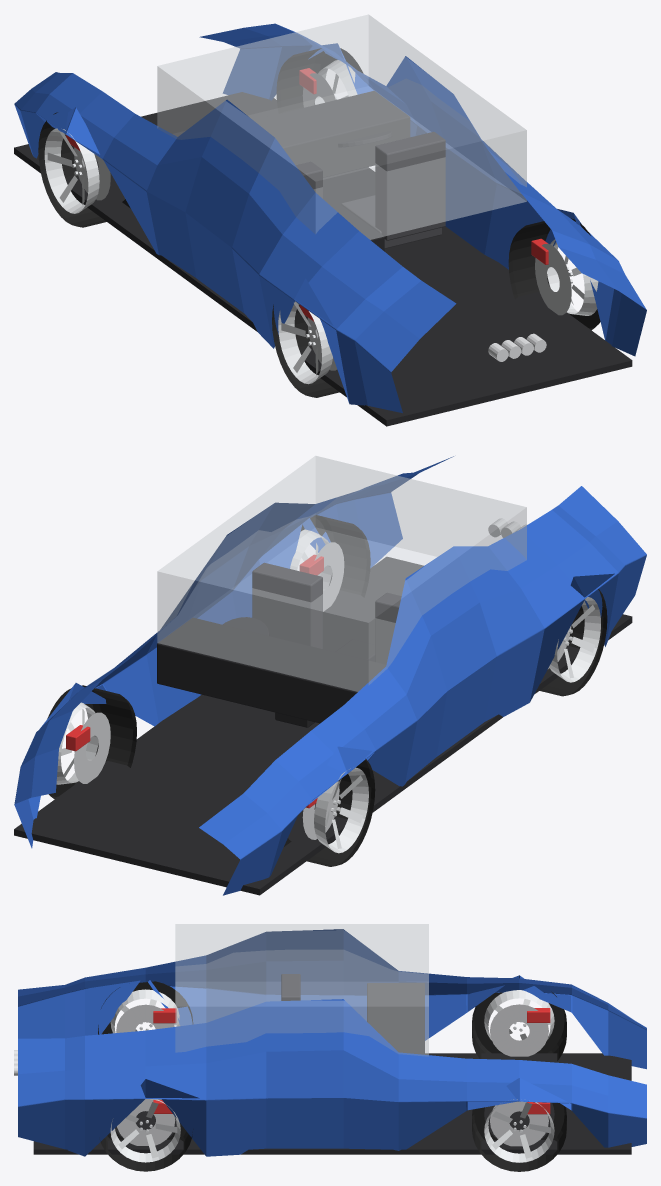
The model's file is Car_Chevrolet_Corvette_Stingray_C7_2010s_Complete.glb.
3 views of the same model, one above another, from view 1: azimuth 30°, elevation 25°; view 2: azimuth 150°, elevation 25°; view 3: azimuth 270°, elevation 25° (orthographic). The views are drawn at different scales.
Visible parts, largest first — view 1: BODY_Chevrolet_Corvette_C7_MainShell, GLASS_Corvette_C7, CHASSIS_BellyPan, INTERIOR_SportsSeats, INTERIOR_Dashboard, WHEEL_FR_Rim, WHEEL_RL_Tire, WHEEL_RR_Rim, WHEEL_FL_Tire, WHEEL_FR_Tire, BRAKE_RL_Rotor, WHEEL_RR_Tire (+5 smaller); view 2: BODY_Chevrolet_Corvette_C7_MainShell, GLASS_Corvette_C7, CHASSIS_BellyPan, INTERIOR_Dashboard, INTERIOR_SportsSeats, WHEEL_FR_Rim, WHEEL_FL_Tire, WHEEL_RL_Tire, WHEEL_RR_Rim, WHEEL_FR_Tire, BRAKE_FL_Rotor, WHEEL_RR_Tire (+4 smaller); view 3: BODY_Chevrolet_Corvette_C7_MainShell, GLASS_Corvette_C7, CHASSIS_BellyPan, INTERIOR_Dashboard, BRAKE_FR_Rotor, WHEEL_FL_Tire, WHEEL_FR_Tire, WHEEL_FL_Rim, WHEEL_RL_Rim, BRAKE_FL_Rotor, BRAKE_RL_Rotor, WHEEL_RL_Tire (+5 smaller).
Part boxes in pixels (<box>): BODY_Chevrolet_Corvette_C7_MainShell: <box>14,23,646,413</box>; GLASS_Corvette_C7: <box>157,14,526,239</box>; CHASSIS_BellyPan: <box>14,92,632,426</box>; INTERIOR_SportsSeats: <box>296,131,445,248</box>; INTERIOR_Dashboard: <box>254,91,410,251</box>; WHEEL_FR_Rim: <box>44,128,99,213</box>; WHEEL_RL_Tire: <box>508,218,600,330</box>; WHEEL_RR_Rim: <box>278,301,332,384</box>; WHEEL_FL_Tire: <box>276,48,363,113</box>; WHEEL_FR_Tire: <box>38,112,130,227</box>; BRAKE_RL_Rotor: <box>535,243,571,315</box>; WHEEL_RR_Tire: <box>272,304,339,397</box>; BODY_Chevrolet_Corvette_C7_MainShell: <box>14,456,646,895</box>; GLASS_Corvette_C7: <box>157,456,526,691</box>; CHASSIS_BellyPan: <box>14,557,632,895</box>; INTERIOR_Dashboard: <box>157,617,386,727</box>; INTERIOR_SportsSeats: <box>252,562,401,664</box>; WHEEL_FR_Rim: <box>314,767,368,853</box>; WHEEL_FL_Tire: <box>47,685,136,799</box>; WHEEL_RL_Tire: <box>301,515,370,597</box>; WHEEL_RR_Rim: <box>549,597,600,682</box>; WHEEL_FR_Tire: <box>284,758,375,866</box>; BRAKE_FL_Rotor: <box>74,712,110,783</box>; WHEEL_RR_Tire: <box>539,589,607,696</box>; BODY_Chevrolet_Corvette_C7_MainShell: <box>18,929,646,1156</box>; GLASS_Corvette_C7: <box>175,924,428,1056</box>; CHASSIS_BellyPan: <box>33,1053,631,1154</box>; INTERIOR_Dashboard: <box>367,983,424,1054</box>; BRAKE_FR_Rotor: <box>490,1004,548,1056</box>; WHEEL_FL_Tire: <box>472,1103,566,1171</box>; WHEEL_FR_Tire: <box>472,991,566,1060</box>; WHEEL_FL_Rim: <box>484,1099,554,1162</box>; WHEEL_RL_Rim: <box>110,1099,180,1162</box>; BRAKE_FL_Rotor: <box>490,1101,548,1146</box>; BRAKE_RL_Rotor: <box>117,1099,175,1145</box>; WHEEL_RL_Tire: <box>100,1123,193,1171</box>.
Size of the model in its own units: 1.96 by 1.24 by 4.59.
